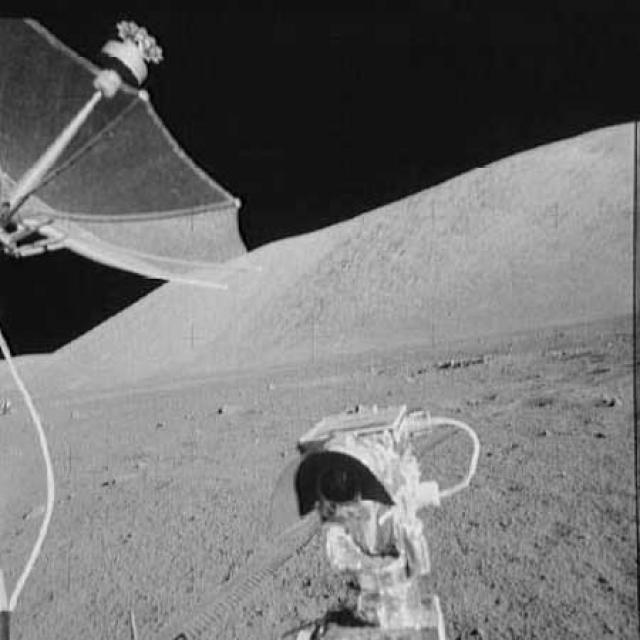artifact: (0, 9, 262, 293), (266, 399, 486, 639), (0, 334, 65, 616)
crater: (399, 347, 507, 376), (512, 390, 622, 417)
